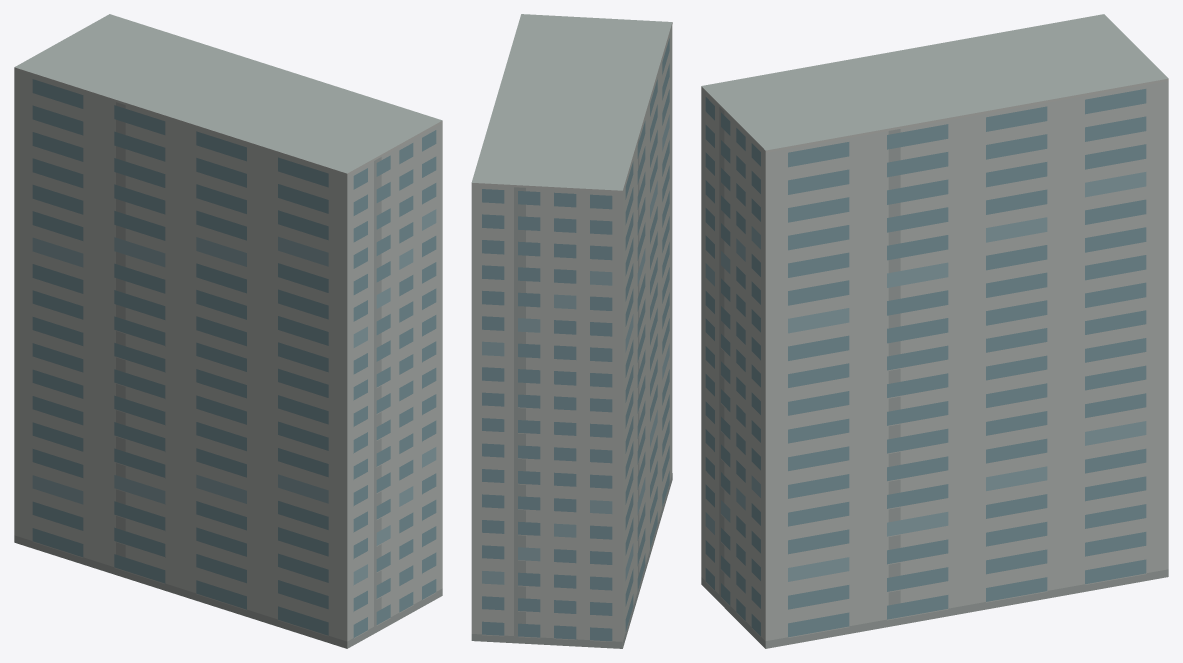
Rendered from residential-67051558-7429-4d9f-98ec-63c35c75a07a.glb.
3 views of the same model, side by side, from view 1: azimuth 30°, elevation 25°; view 2: azimuth 150°, elevation 25°; view 3: azimuth 270°, elevation 25° (orthographic). The views are drawn at different scales.
Visible parts, largest first — view 1: residential-67051558-7429-4d9f-98ec-63c35c75a07a.tmp; view 2: residential-67051558-7429-4d9f-98ec-63c35c75a07a.tmp; view 3: residential-67051558-7429-4d9f-98ec-63c35c75a07a.tmp.
Part boxes in pixels (<box>): residential-67051558-7429-4d9f-98ec-63c35c75a07a.tmp: <box>14,14,442,648</box>; residential-67051558-7429-4d9f-98ec-63c35c75a07a.tmp: <box>471,14,672,648</box>; residential-67051558-7429-4d9f-98ec-63c35c75a07a.tmp: <box>701,14,1168,648</box>.
Bounding box in the file's own units: 29.98 × 51 × 43.37.
